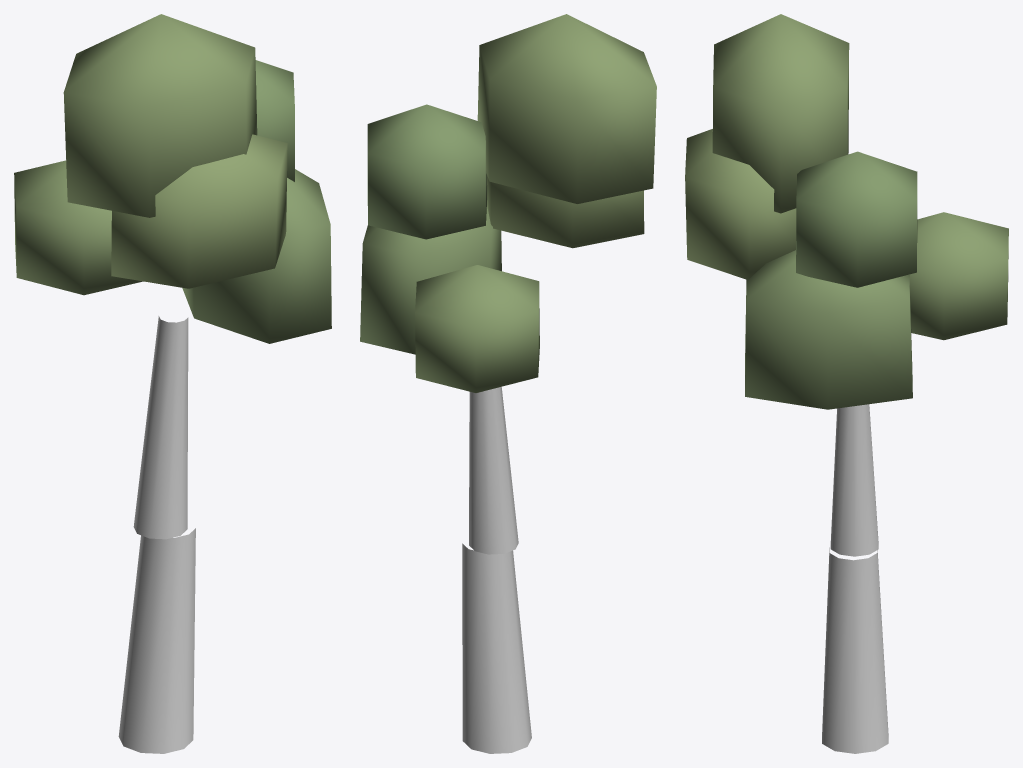
Rendered from oak_v3_far.gltf.
3 renders of one model, left to right at view 1: azimuth 30°, elevation 25°; view 2: azimuth 150°, elevation 25°; view 3: azimuth 270°, elevation 25°, orthographic. The views are drawn at different scales.
Parts seen in each view (by area): view 1: foliage, bark; view 2: foliage, bark; view 3: foliage, bark.
Boxes of the visible parts, left/top/right/bottom form: foliage: left=14, top=14, right=331, bottom=343; bark: left=118, top=316, right=195, bottom=753; foliage: left=360, top=14, right=656, bottom=392; bark: left=462, top=386, right=531, bottom=753; foliage: left=685, top=14, right=1008, bottom=409; bark: left=822, top=404, right=888, bottom=753.
Size of the model in its own units: 2.24 by 5.82 by 2.41.
